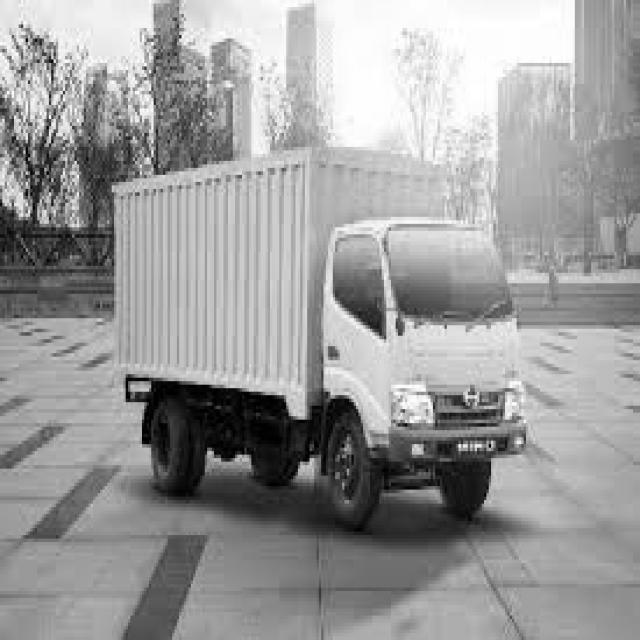truck: (304, 182, 567, 536)
